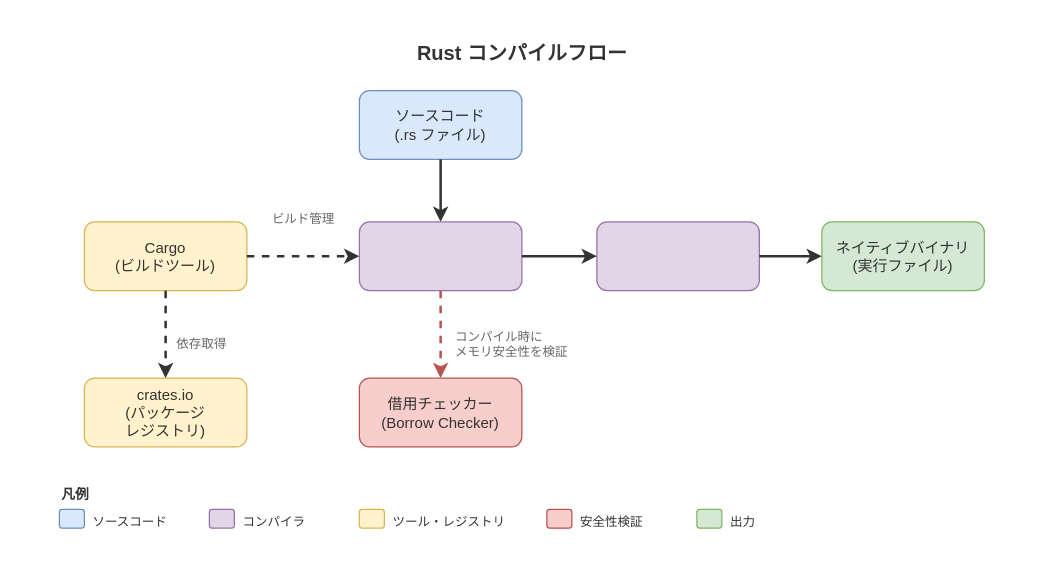
This 1043x580 diagram has some shape labels left out. The centre of each missing label's shape, as x and y in pixels:
"LLVM (バックエンド)" goes at pixel 677 256.
"rustc (コンパイラ)" goes at pixel 440 256.
